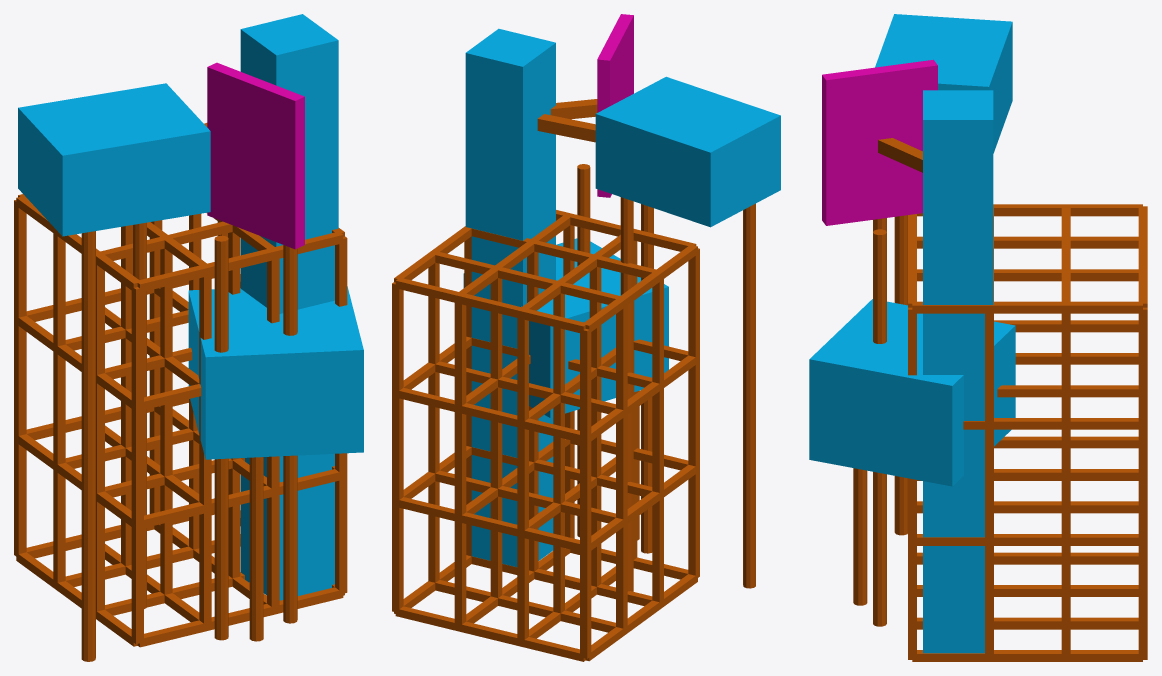
File: folie_tag_072.glb
The picture shows the model from 3 angles, left to right: view 1: azimuth 30°, elevation 25°; view 2: azimuth 150°, elevation 25°; view 3: azimuth 270°, elevation 25°; orthographic projection. The views are drawn at different scales.
Visible parts, largest first — view 1: folie_tag_072_00_cage, folie_tag_072_01_block, folie_tag_072_02_block, folie_tag_072_core, folie_tag_072_line, folie_tag_072_03_panel; view 2: folie_tag_072_00_cage, folie_tag_072_core, folie_tag_072_02_block, folie_tag_072_line, folie_tag_072_01_block, folie_tag_072_03_panel; view 3: folie_tag_072_00_cage, folie_tag_072_core, folie_tag_072_01_block, folie_tag_072_03_panel, folie_tag_072_line, folie_tag_072_02_block.
Boxes of the visible parts, <box> form: folie_tag_072_00_cage: <box>14,194,347,647</box>; folie_tag_072_01_block: <box>188,286,363,459</box>; folie_tag_072_02_block: <box>18,83,210,236</box>; folie_tag_072_core: <box>240,14,338,600</box>; folie_tag_072_line: <box>81,123,297,661</box>; folie_tag_072_03_panel: <box>207,62,304,249</box>; folie_tag_072_00_cage: <box>392,210,699,661</box>; folie_tag_072_core: <box>465,28,555,567</box>; folie_tag_072_02_block: <box>595,76,780,227</box>; folie_tag_072_line: <box>537,99,755,591</box>; folie_tag_072_01_block: <box>463,238,668,417</box>; folie_tag_072_03_panel: <box>597,14,633,197</box>; folie_tag_072_00_cage: <box>908,204,1147,661</box>; folie_tag_072_core: <box>923,90,993,653</box>; folie_tag_072_01_block: <box>809,299,1015,486</box>; folie_tag_072_03_panel: <box>822,59,937,225</box>; folie_tag_072_line: <box>853,138,922,626</box>; folie_tag_072_02_block: <box>875,14,1012,153</box>.
Size of the model in its own units: 5.56 by 9.33 by 5.28.
